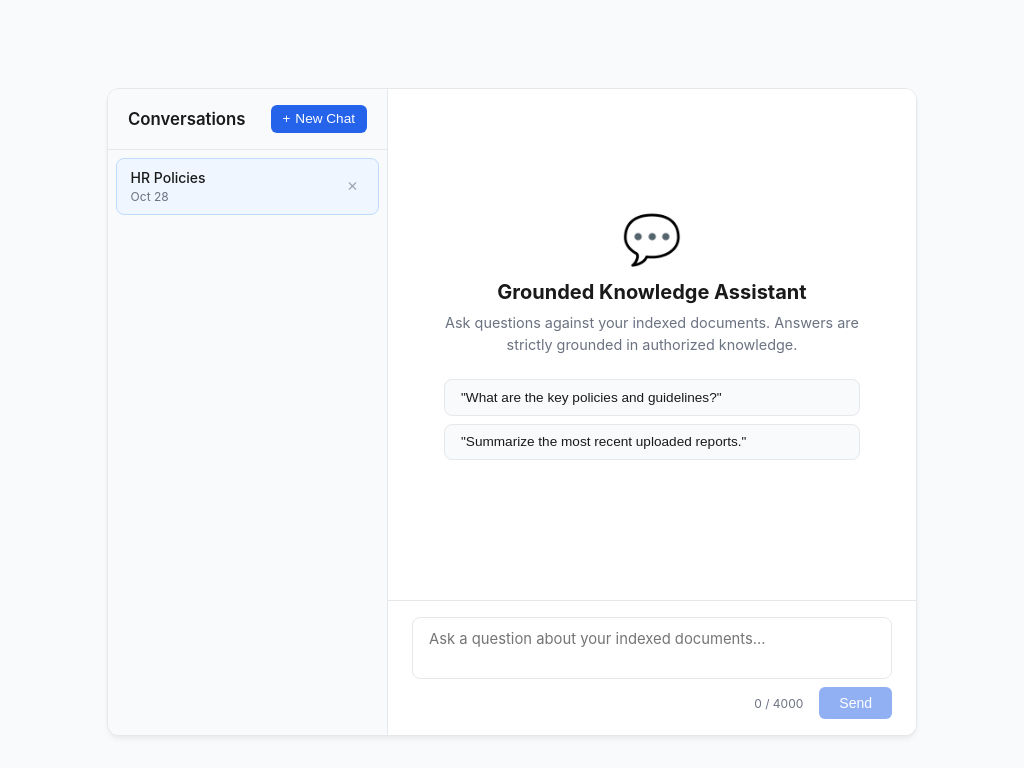
Test case: ChatInterface (Phase 7 - Chunk 7.5) › sends a message, renders assistant answer-only response, and verifies no citation elements exist
Expected: the element with test id "conversation-item-conv-1" is shown, 116,158 -> 379,215
Type "What is vacation allowance?" into the text box with test id "chat-input". click: [652, 648]
box: 412,617 -> 892,679
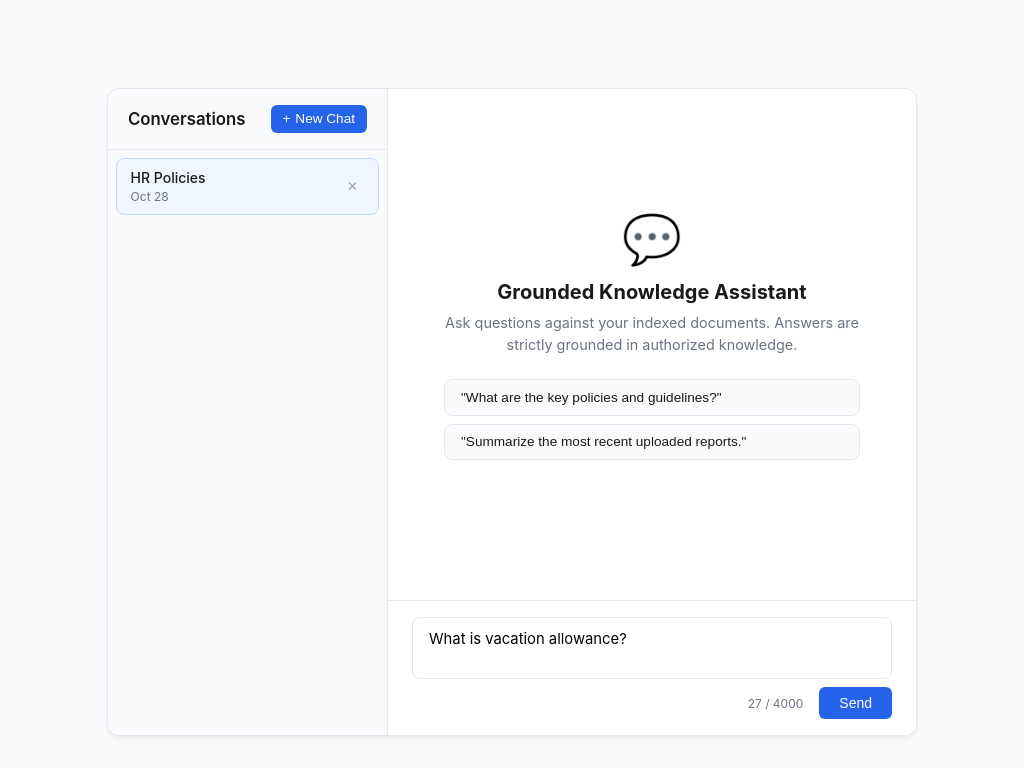
Expected: the button with test id "send-message-button" is enabled
Click the button with test id "send-message-button". click: [856, 703]
box: 819,687 -> 892,719
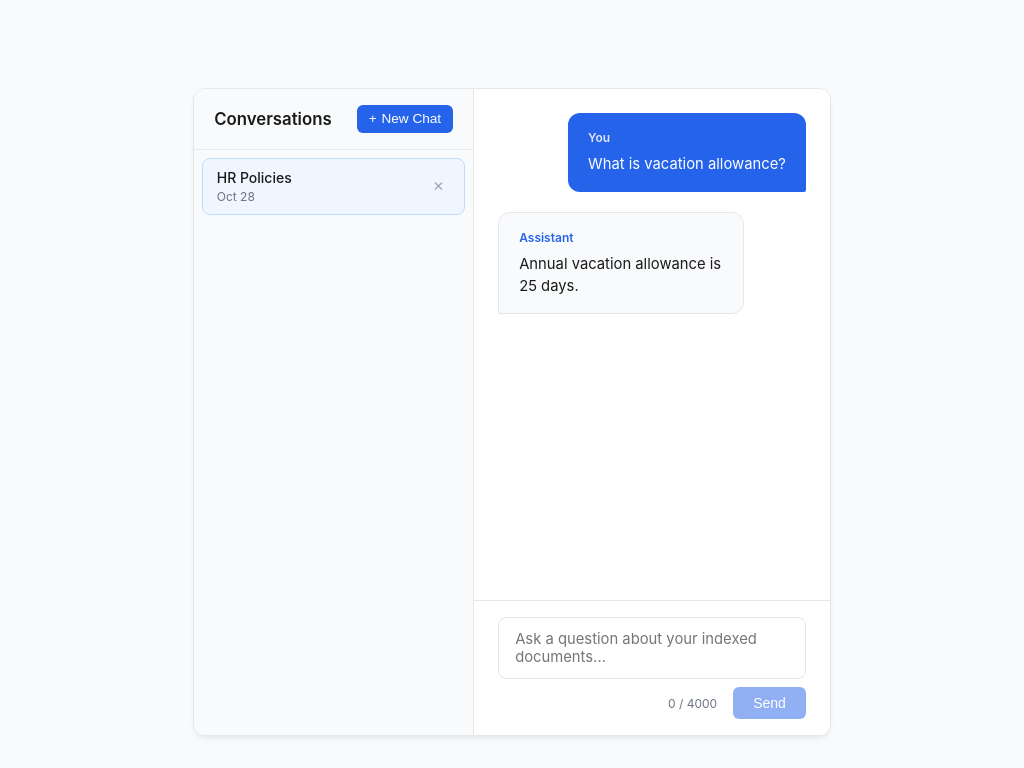
Expected: the element with test id "user-message" is shown, 568,113 -> 806,192
Expected: the element with test id "assistant-message" is shown, 498,212 -> 744,314
Expected: the text "Annual vacation allowance is 25 days." is shown, 519,253 -> 723,297
